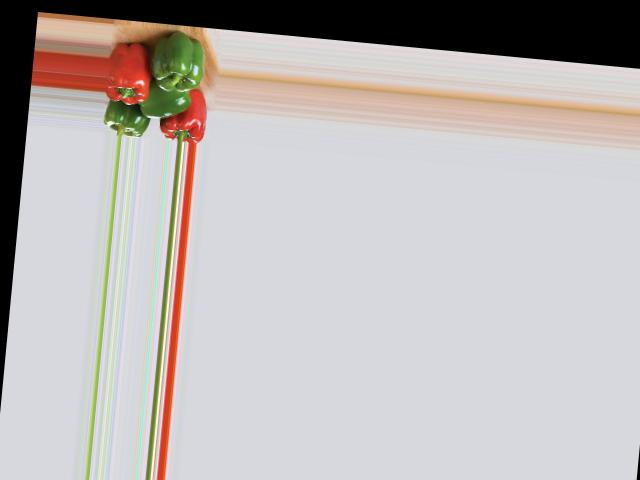bell_pepper: (105, 34, 157, 104)
